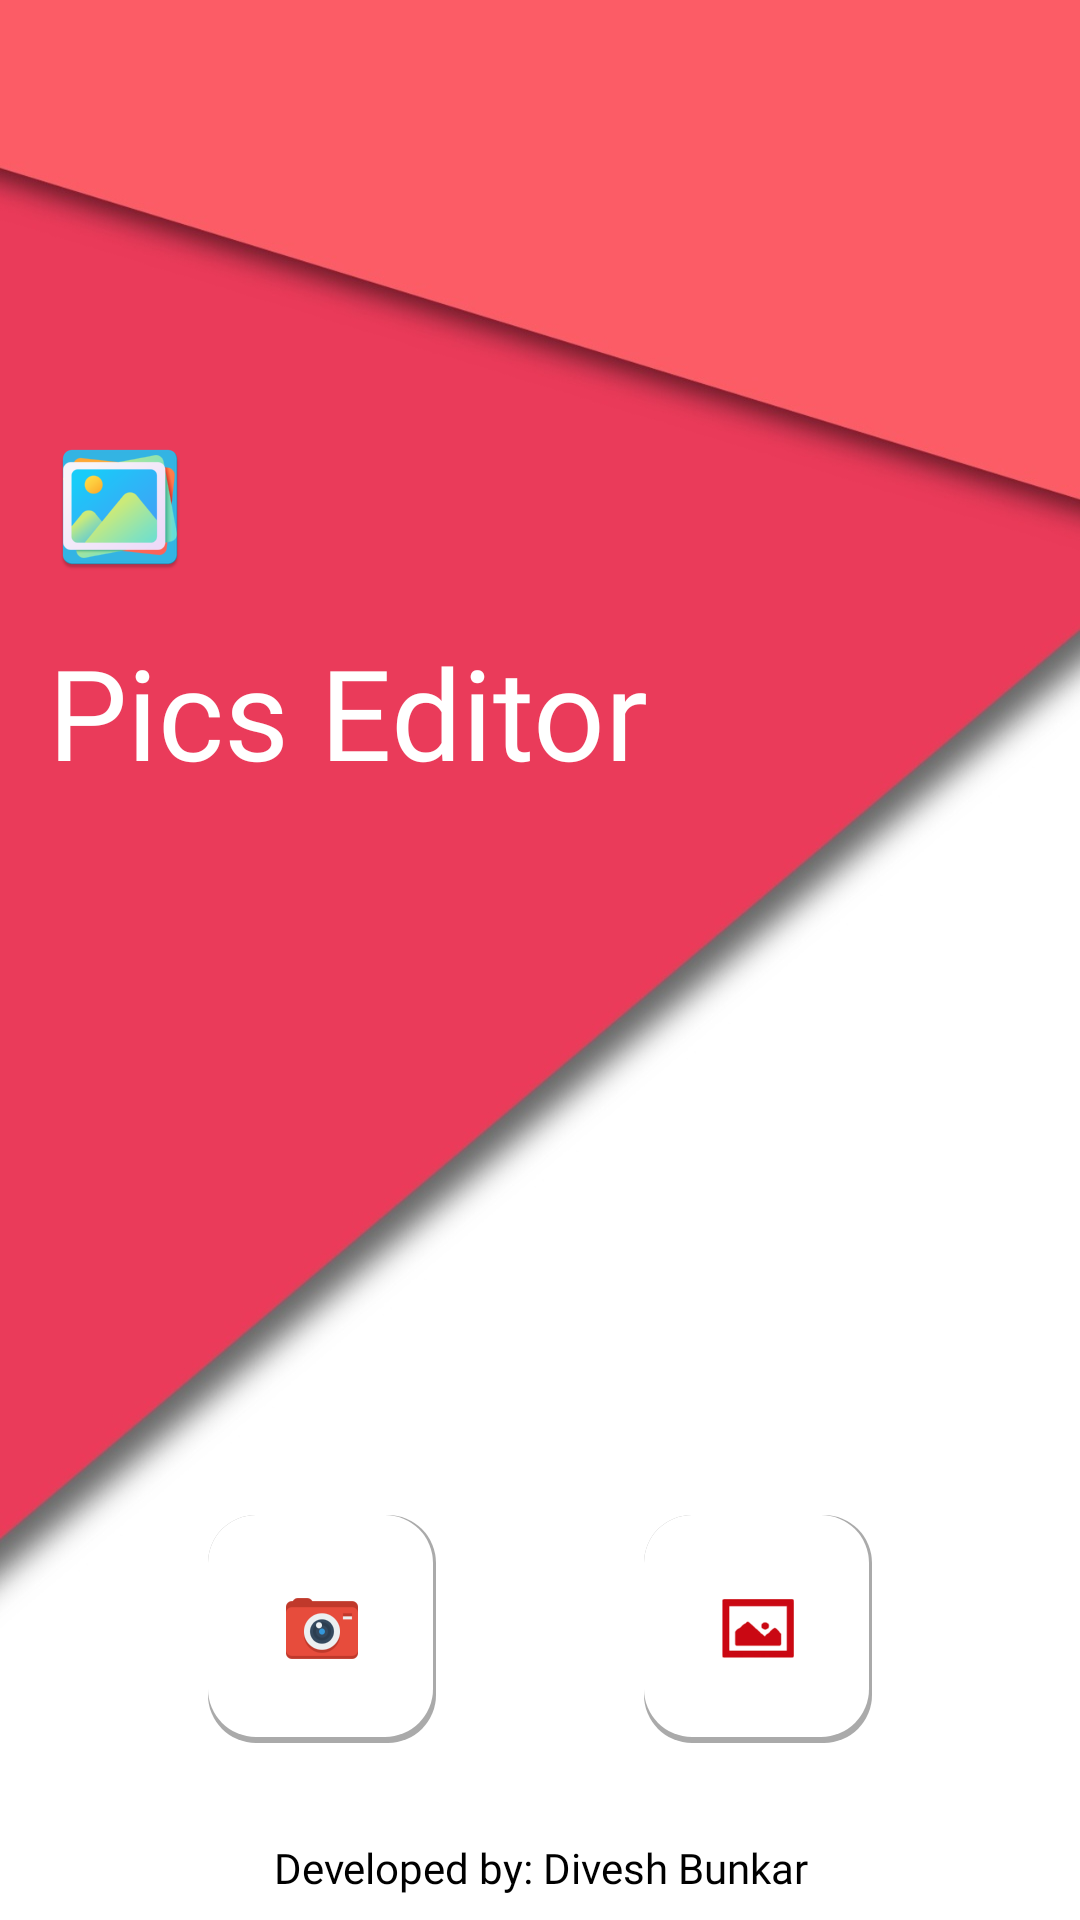

Icons on this 1080×1920 Android screen, each with its box as (x1, y1, x2, y2):
camera: (208, 1515, 436, 1743)
gallery: (644, 1515, 872, 1743)
